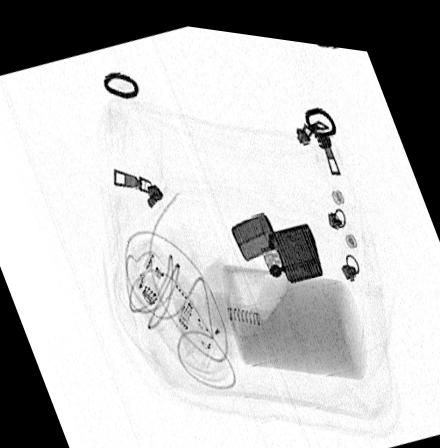Lighter: (229, 206, 322, 276)
